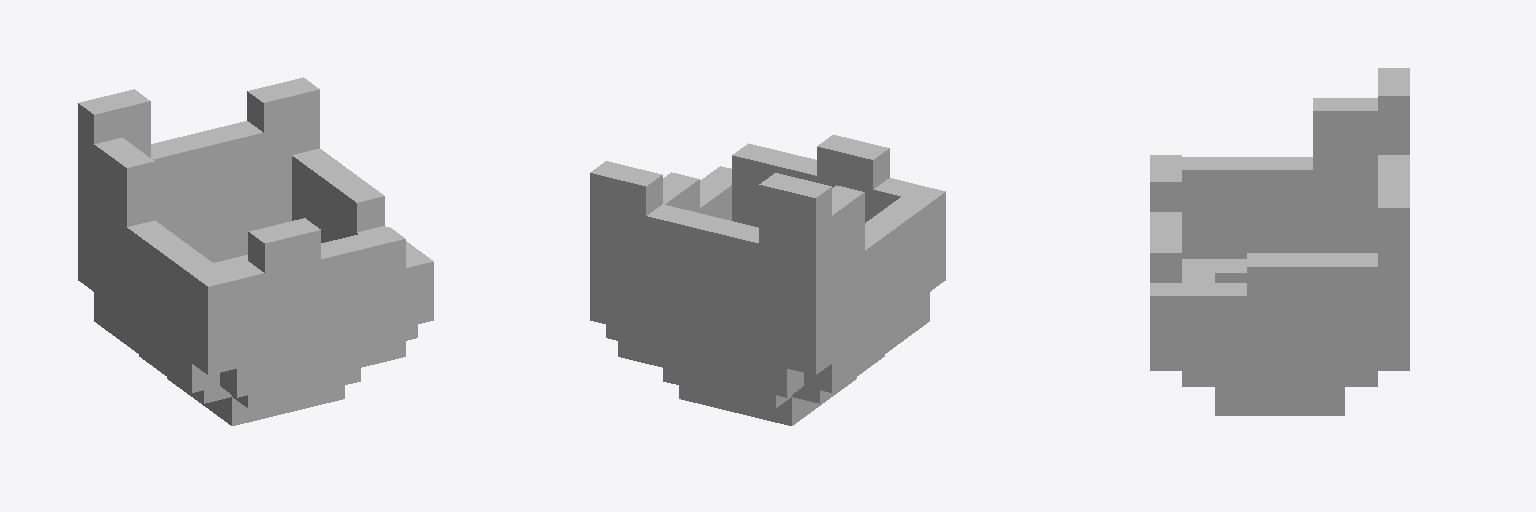
Rendered from Jar_Broken_01.obj.
The picture shows the model from 3 angles: view 1: azimuth 30°, elevation 25°; view 2: azimuth 150°, elevation 25°; view 3: azimuth 270°, elevation 25°; orthographic projection.
Visible parts, largest first — view 1: Jar_Broken_01.002; view 2: Jar_Broken_01.002; view 3: Jar_Broken_01.002.
Boxes of the visible parts, box(x1,y1,x2,y2) form: Jar_Broken_01.002: box(78, 77, 433, 425); Jar_Broken_01.002: box(590, 135, 945, 425); Jar_Broken_01.002: box(1150, 68, 1409, 415).
Size of the model in its own units: 0.8 by 0.9 by 0.8.